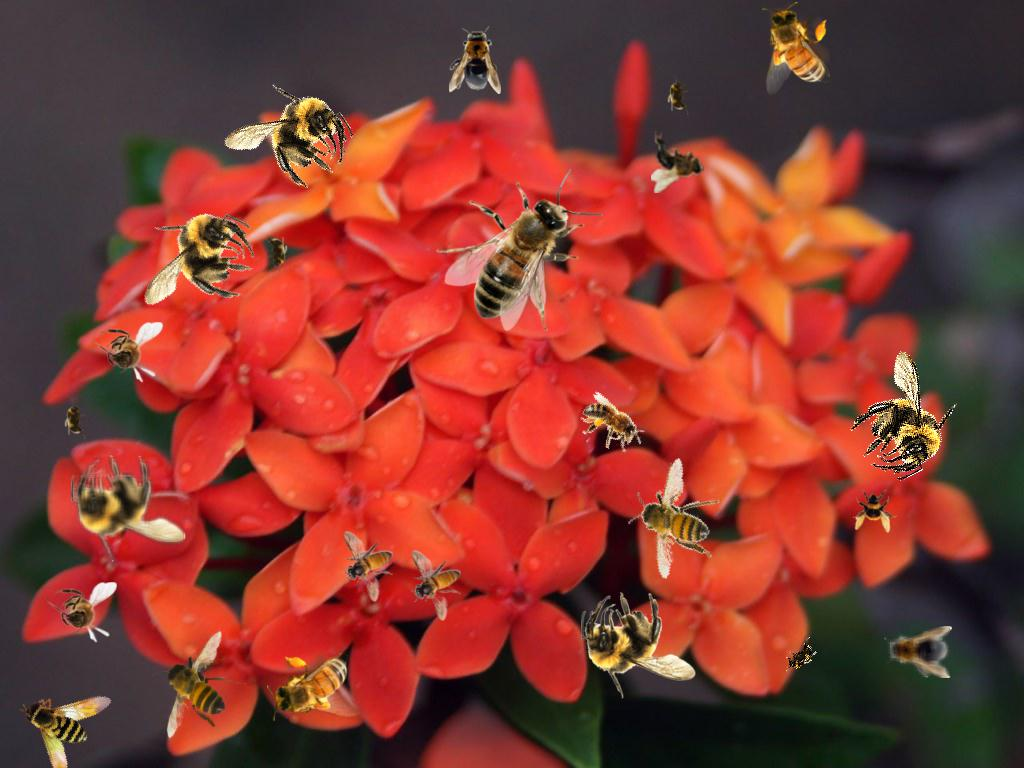Bee: (436, 169, 603, 331), (211, 61, 366, 214), (828, 339, 977, 492), (124, 189, 269, 338), (612, 449, 739, 585), (71, 455, 186, 562), (581, 592, 696, 699), (18, 670, 132, 768), (152, 629, 246, 740), (267, 653, 360, 721), (762, 2, 830, 95), (573, 390, 653, 461), (93, 322, 163, 383), (47, 582, 117, 643), (343, 531, 393, 602), (411, 550, 461, 621), (449, 26, 501, 94), (884, 626, 952, 678), (651, 131, 704, 193), (853, 489, 897, 533), (777, 636, 823, 678), (266, 233, 288, 273), (667, 75, 689, 115), (64, 399, 86, 439)
